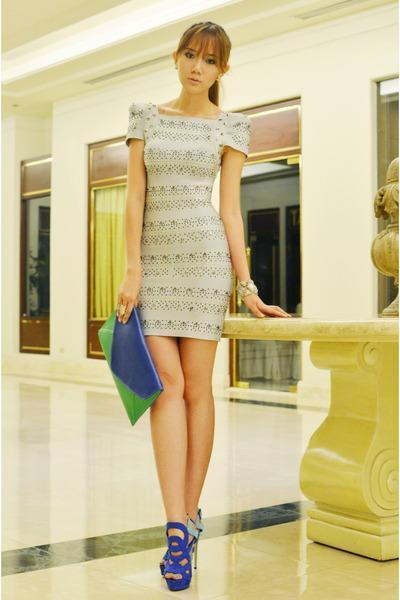bag: (110, 304, 163, 408)
dress: (129, 104, 251, 341)
shoe: (160, 508, 203, 591)
